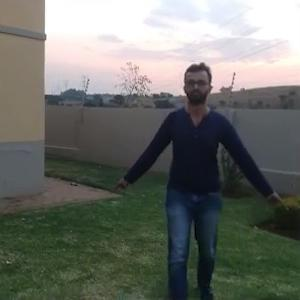land: (110, 54, 282, 278)
